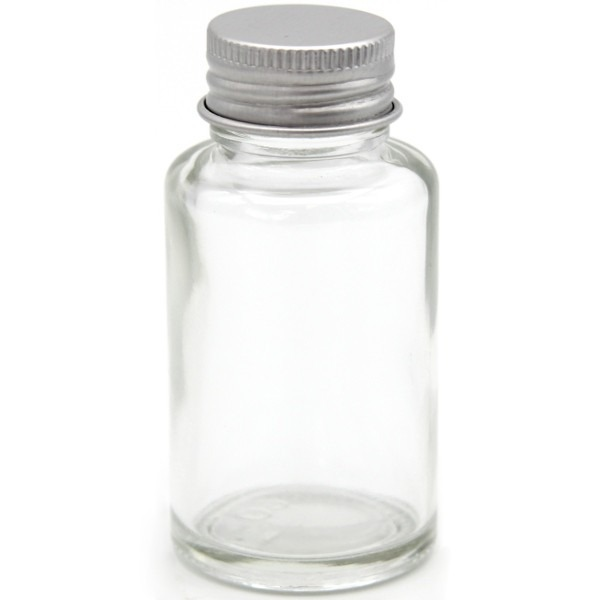container: (142, 3, 455, 597)
